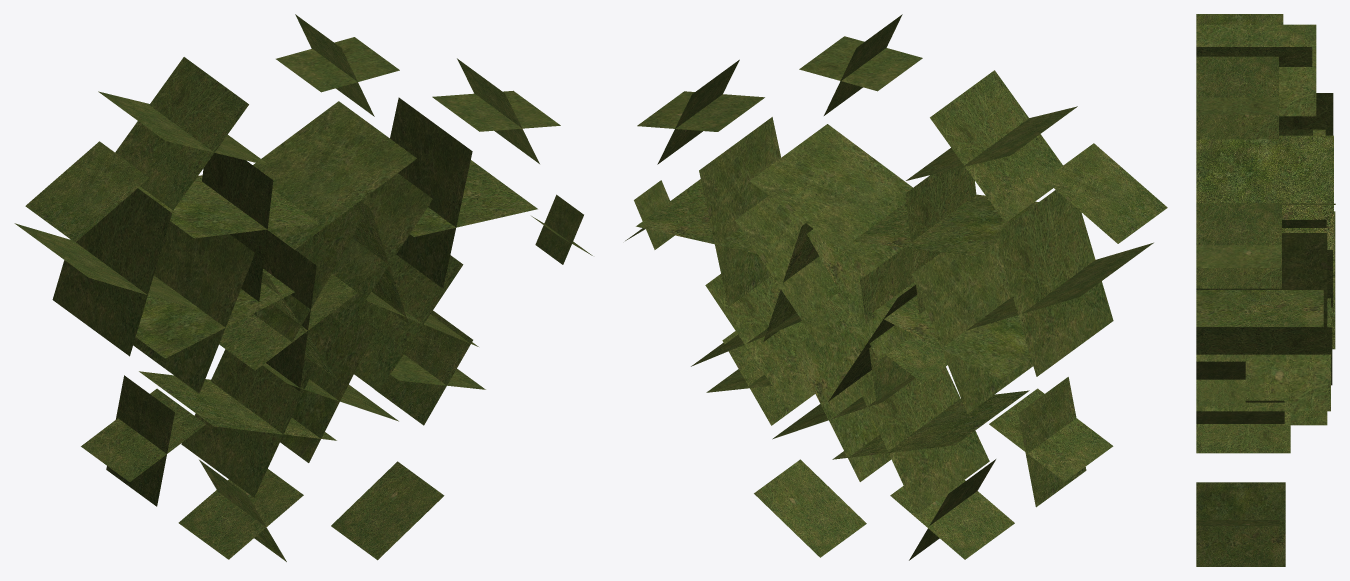
Rendered from grass_patch.fbx.
3 renders of one model, left to right at view 1: azimuth 30°, elevation 25°; view 2: azimuth 150°, elevation 25°; view 3: azimuth 270°, elevation 25°, orthographic. The views are drawn at different scales.
Parts seen in each view (by area): view 1: Plane.028; view 2: Plane.028; view 3: Plane.028.
Part boxes in pixels (x1=…): Plane.028: x1=14, y1=14, x2=592, y2=561; Plane.028: x1=625, y1=14, x2=1167, y2=560; Plane.028: x1=1196, y1=14, x2=1335, y2=566.
Size of the model in its own units: 1452 by 1436 by 380.
